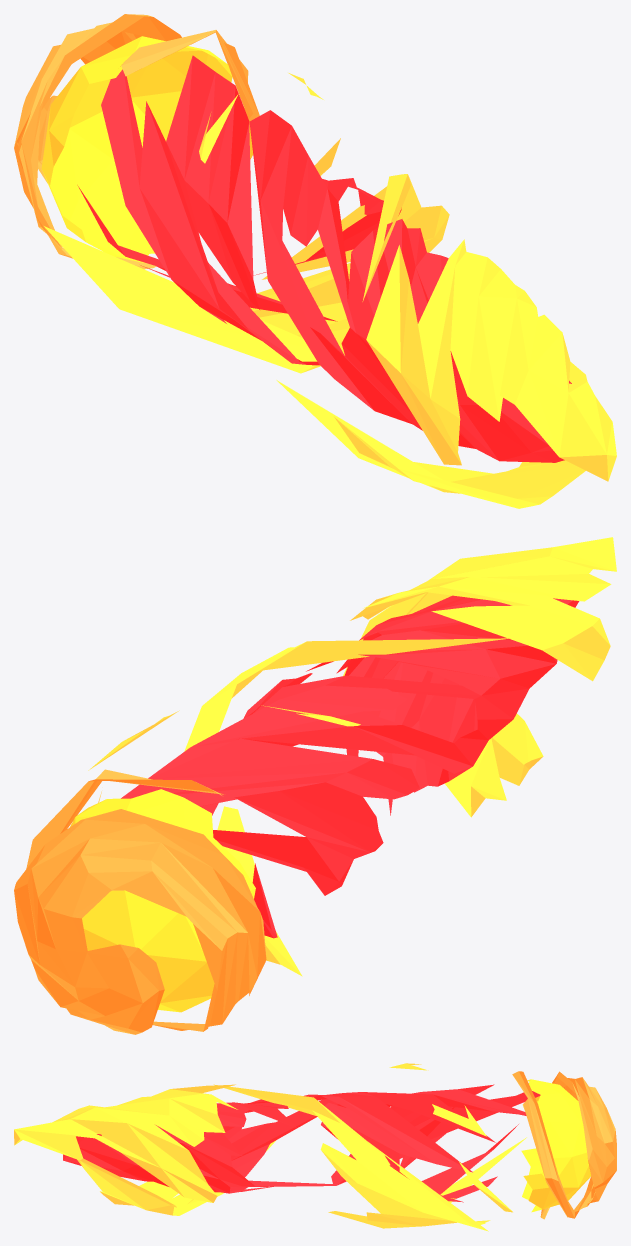
The model's file is fireball.glb.
3 renders of one model, top to bottom at view 1: azimuth 30°, elevation 25°; view 2: azimuth 150°, elevation 25°; view 3: azimuth 270°, elevation 25°, orthographic. The views are drawn at different scales.
Parts seen in each view (by area): view 1: innertrail, outertrail, innersphere, outertail; view 2: innertrail, outertail, outertrail, innersphere; view 3: outertrail, innertrail, outertail, innersphere.
Part boxes in pixels (<box>): innertrail: <box>77,55,571,462</box>; outertrail: <box>44,73,616,508</box>; innersphere: <box>41,36,253,262</box>; outertail: <box>14,14,259,269</box>; innertrail: <box>121,595,579,938</box>; outertail: <box>14,769,266,1034</box>; outertrail: <box>88,537,616,976</box>; innersphere: <box>70,789,255,1012</box>; outertrail: <box>14,1063,526,1231</box>; innertrail: <box>63,1084,540,1202</box>; outertail: <box>512,1071,616,1219</box>; innersphere: <box>521,1079,591,1212</box>.
Size of the model in its own units: 0.2807 by 0.2844 by 1.05.
